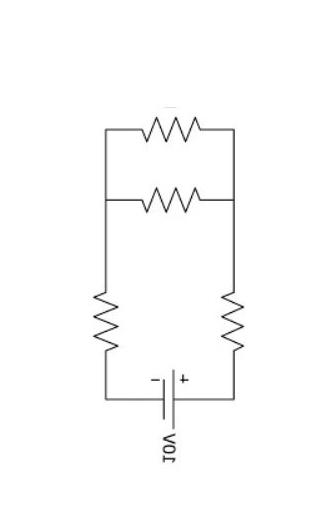resistor: (120, 99, 214, 161), (132, 177, 218, 226), (87, 280, 130, 372), (213, 275, 248, 365)
